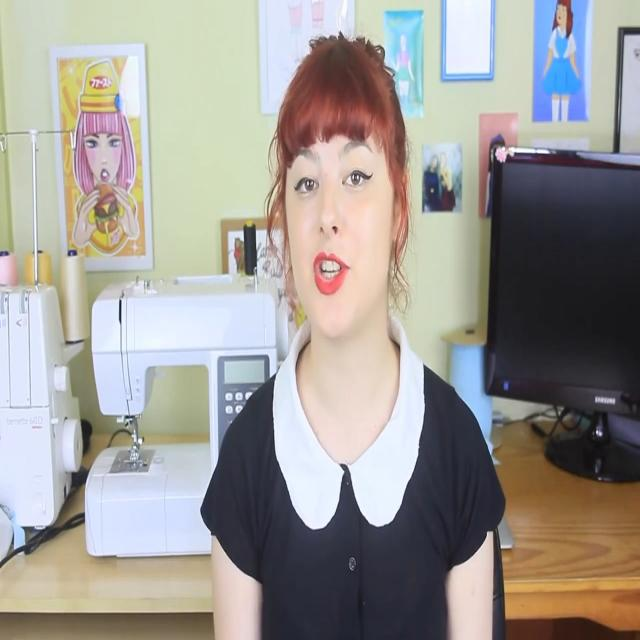Shirt: (200, 311, 507, 640)
